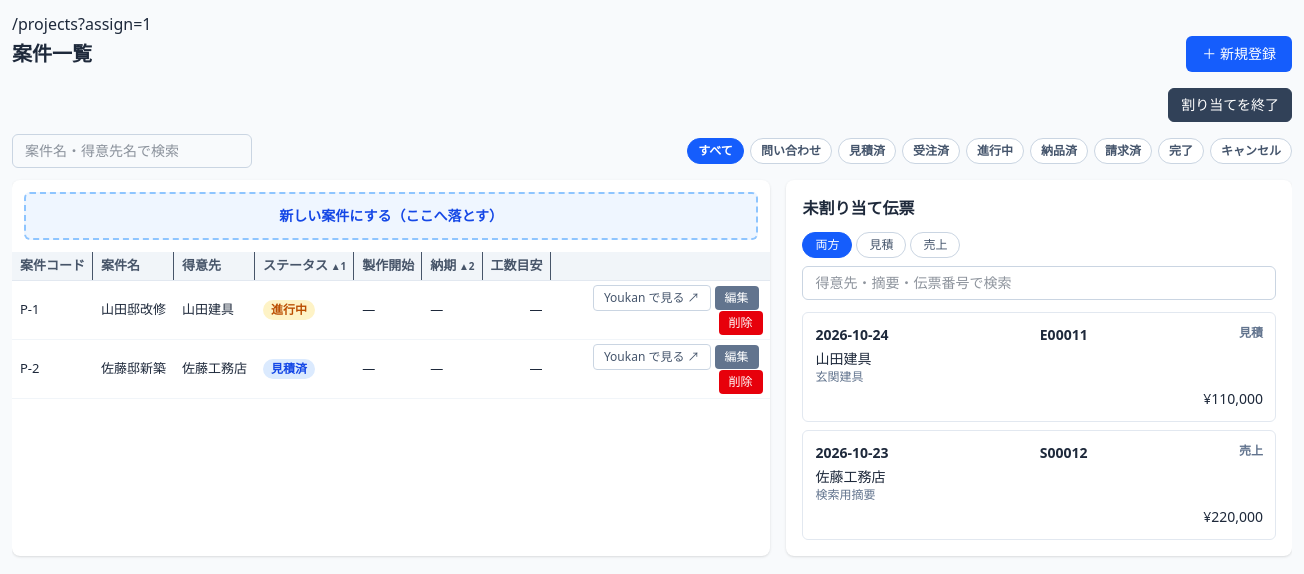
Test: R-0195 案件一覧の伝票割り当てモード › 見積／売上切り替えと得意先・摘要・伝票番号の検索で絞り込む
Expected: the text "E00011" is shown, x1=1040 y1=325 x2=1088 y2=345
Click the button "売上" at (935, 245), box x1=910 y1=232 x2=960 y2=258
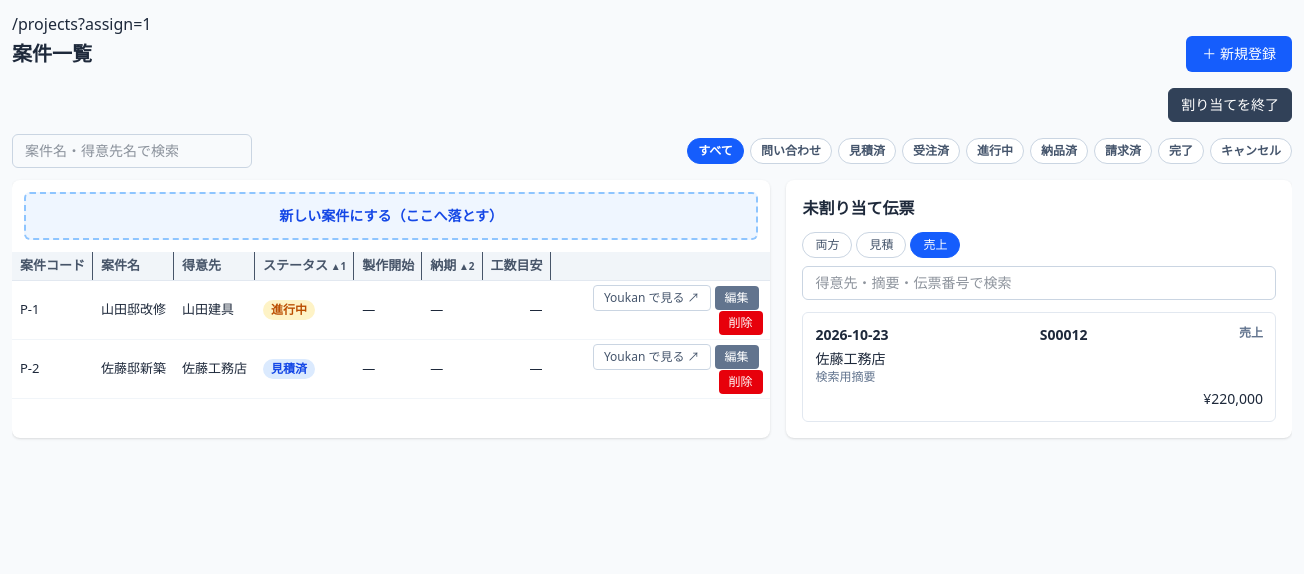
Expected: the text "S00012" is shown, x1=1040 y1=325 x2=1088 y2=345
Result: the text "E00011" is gone
Click the button "両方" at (827, 245), box x1=802 y1=232 x2=852 y2=258
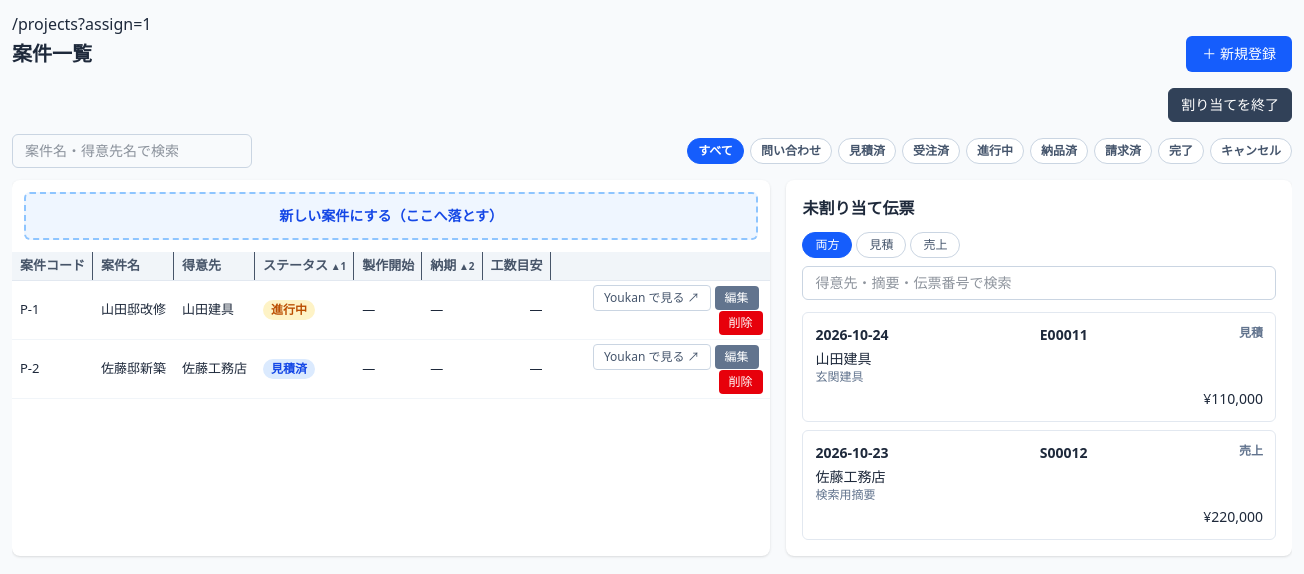
Type "玄関" into the search field with placeholder "得意先・摘要・伝票番号で検索" at (1039, 283), box x1=802 y1=266 x2=1276 y2=300
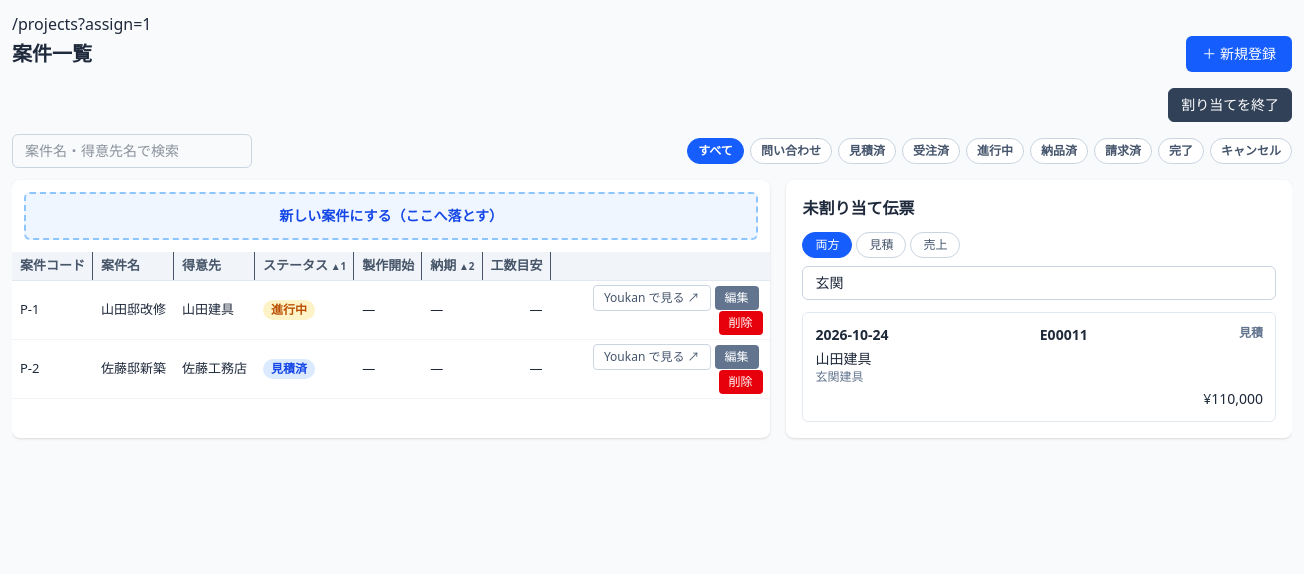
Result: the text "E00011" is shown at x1=1040 y1=325 x2=1088 y2=345
Result: the text "S00012" is gone
Replace the text in the search field with placeholder "得意先・摘要・伝票番号で検索" with "S00012" at (1039, 283), box x1=802 y1=266 x2=1276 y2=300
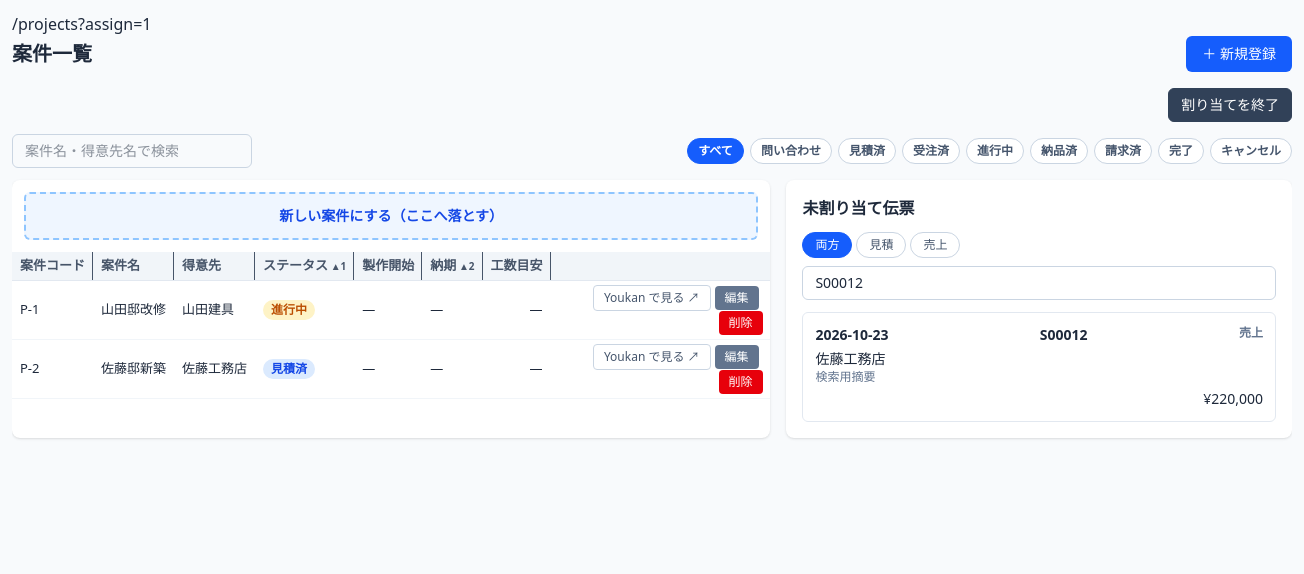
Result: the text "S00012" is shown at x1=1040 y1=325 x2=1088 y2=345
Result: the text "E00011" is gone
